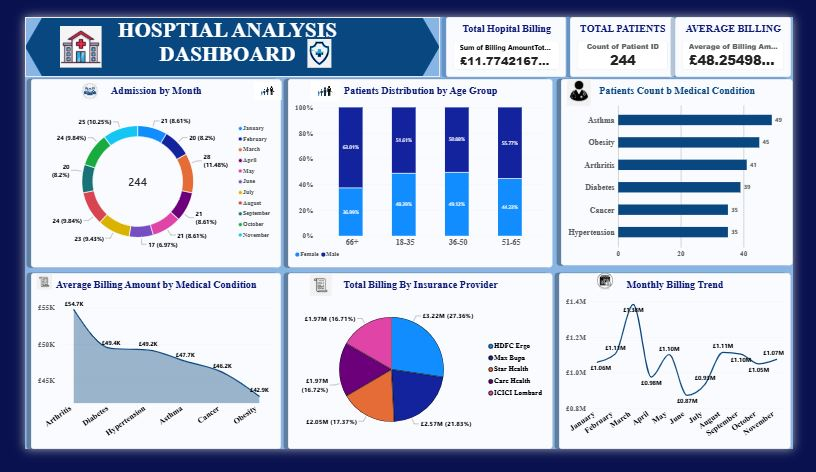

The dashboard page shown, as its layout file describes it:
{"tool":"powerbi","page":{"name":"Page 1","canvas":[1920,1080],"ordinal":0},"visuals":[{"type":"donutChart","title":"Admission by Month","fields":{"Category":["clean data.Date of Admission.Variation.Date Hierarchy.Month"],"Y":["CountNonNull(clean data.Medical Condition)"]},"box":[15.2,156.1,624.6,470.6],"z":0},{"type":"pieChart","title":"Total Billing By Insurance Provider","fields":{"Category":["clean data.Insurance Provider"],"Y":["Sum(clean data.Billing Amount)"]},"box":[657.1,639.8,661.4,440.2],"z":1000},{"type":"barChart","title":"Patients Count b Medical Condition","fields":{"Category":["clean data.Medical Condition"],"Y":["CountNonNull(clean data.Patient ID)"]},"box":[1340.2,156.1,579,466.3],"z":2000},{"type":"areaChart","title":"Average Billing Amount by Medical Condition","fields":{"Category":["clean data.Medical Condition"],"Y":["Avg(clean data.Billing Amount)"]},"box":[15.2,639.8,624.6,440.2],"z":3000},{"type":"hundredPercentStackedColumnChart","title":"Patients Distribution  by Age Group","fields":{"Category":["clean data.Age Group"],"Series":["clean data.Gender"],"Y":["CountNonNull(clean data.Patient ID)"]},"box":[657.1,156.1,661.4,470.6],"z":4000},{"type":"lineChart","title":"Monthly Billing Trend","fields":{"Category":["clean data.Date of Admission.Variation.Date Hierarchy.Month"],"Y":["Sum(clean data.Billing Amount)"]},"box":[1335.9,639.8,579,440.2],"z":5000},{"type":"cardVisual","title":"Total  Hopital Billing ","fields":{"Data":["Sum(clean data.Billing Amount)"]},"box":[1051.8,0,301.4,149.6],"z":6000},{"type":"shape","box":[0,0,1036.6,149.6],"z":7000},{"type":"image","box":[77.5,22.5,124,104],"z":8000},{"type":"textbox","box":[165,0,682.5,150],"z":9000},{"type":"cardVisual","title":"TOTAL PATIENTS","fields":{"Data":["CountNonNull(clean data.Patient ID)"]},"box":[1362.5,0,262.5,150],"z":10000},{"type":"cardVisual","title":"AVERAGE  BILLING","fields":{"Data":["Avg(clean data.Billing Amount)"]},"box":[1625,0,290,150],"z":11000},{"type":"image","box":[141,164.8,45.5,41.2],"z":12000},{"type":"image","box":[1353.3,156.1,65.1,67.2],"z":13000},{"type":"image","box":[685.3,54.2,101.9,71.6],"z":14000},{"type":"image","box":[711.3,641.9,54.2,56.4],"z":15000},{"type":"image","box":[1418.3,639.8,65.1,41.2],"z":16000},{"type":"image","box":[571.9,146.7,69.4,73.7],"z":17000},{"type":"image","box":[711.3,160.5,75.9,49.9],"z":18000},{"type":"image","box":[17.3,641.9,60.7,39],"z":19000}]}

Visuals, with their boxes in screenshot pixels (x1, y1, x2, y2), scaled from the page's 1920x1080 canvas onto the 816x472 screenshot:
"Admission by Month" donutChart: [left=6, top=68, right=272, bottom=274]
"Total Billing By Insurance Provider" pieChart: [left=279, top=280, right=560, bottom=471]
"Patients Count b Medical Condition" barChart: [left=570, top=68, right=815, bottom=272]
"Average Billing Amount by Medical Condition" areaChart: [left=6, top=280, right=272, bottom=471]
"Patients Distribution  by Age Group" hundredPercentStackedColumnChart: [left=279, top=68, right=560, bottom=274]
"Monthly Billing Trend" lineChart: [left=568, top=280, right=814, bottom=471]
"Total  Hopital Billing " cardVisual: [left=447, top=0, right=575, bottom=65]
shape: [left=0, top=0, right=441, bottom=65]
image: [left=33, top=10, right=86, bottom=55]
textbox: [left=70, top=0, right=360, bottom=66]
"TOTAL PATIENTS" cardVisual: [left=579, top=0, right=691, bottom=66]
"AVERAGE  BILLING" cardVisual: [left=691, top=0, right=814, bottom=66]
image: [left=60, top=72, right=79, bottom=90]
image: [left=575, top=68, right=603, bottom=98]
image: [left=291, top=24, right=335, bottom=55]
image: [left=302, top=281, right=325, bottom=305]
image: [left=603, top=280, right=630, bottom=298]
image: [left=243, top=64, right=273, bottom=96]
image: [left=302, top=70, right=335, bottom=92]
image: [left=7, top=281, right=33, bottom=298]
